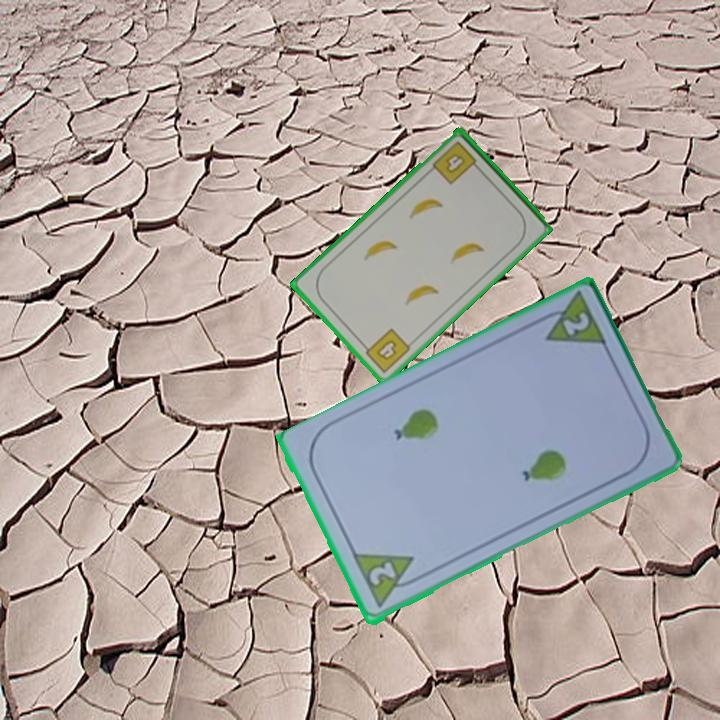2p: (365, 558, 399, 590), (558, 309, 593, 340)
4b: (358, 325, 413, 376), (429, 137, 483, 188)
